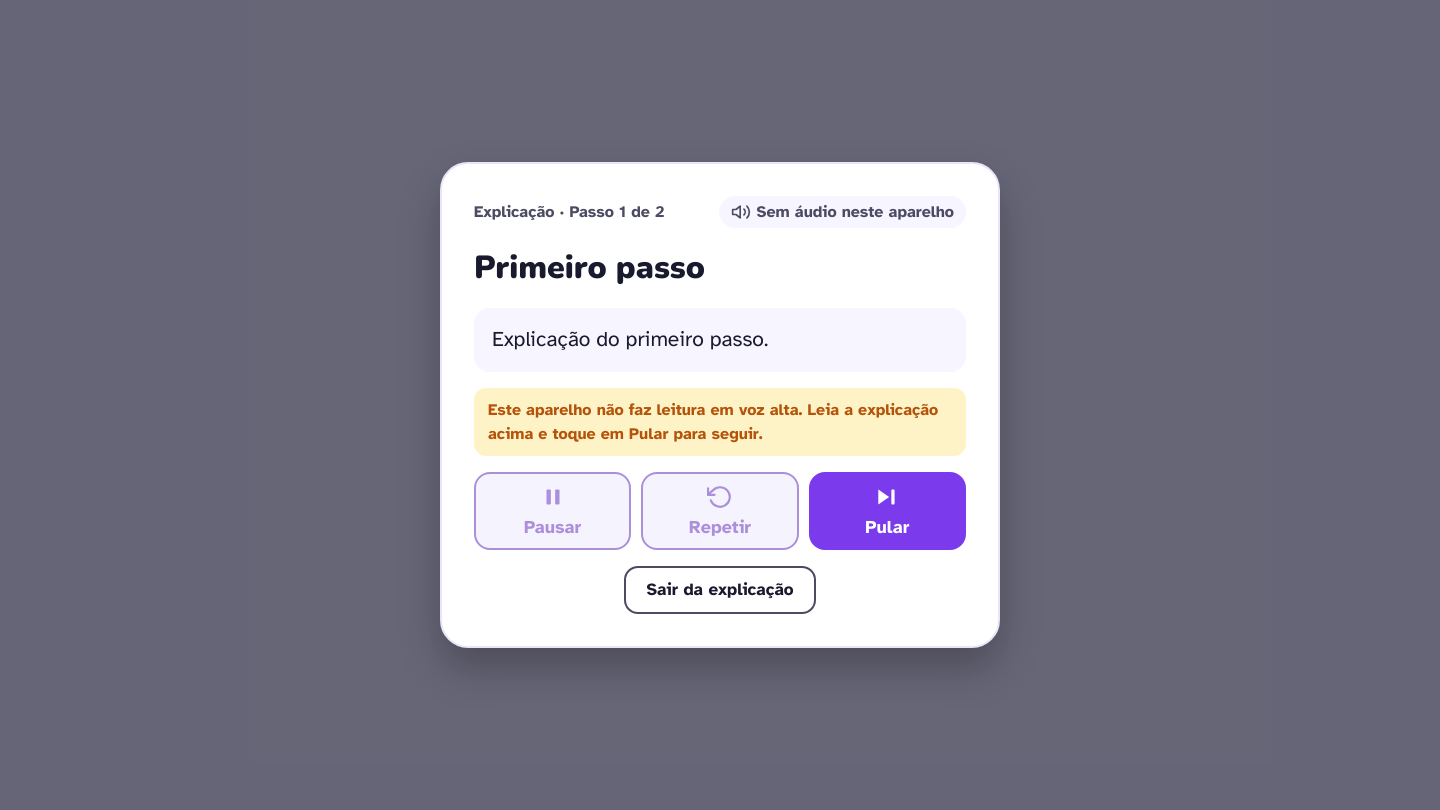
Componente TourAudio (US13) › sem leitura em voz alta, mostra só a legenda e deixa avançar
Expected: the text "não faz leitura em voz alta" is shown, [488, 400, 938, 444]
Expected: the text "Explicação do primeiro passo." is shown, [474, 308, 966, 372]
Click the button "Pular" at (887,511), box [809, 472, 966, 550]
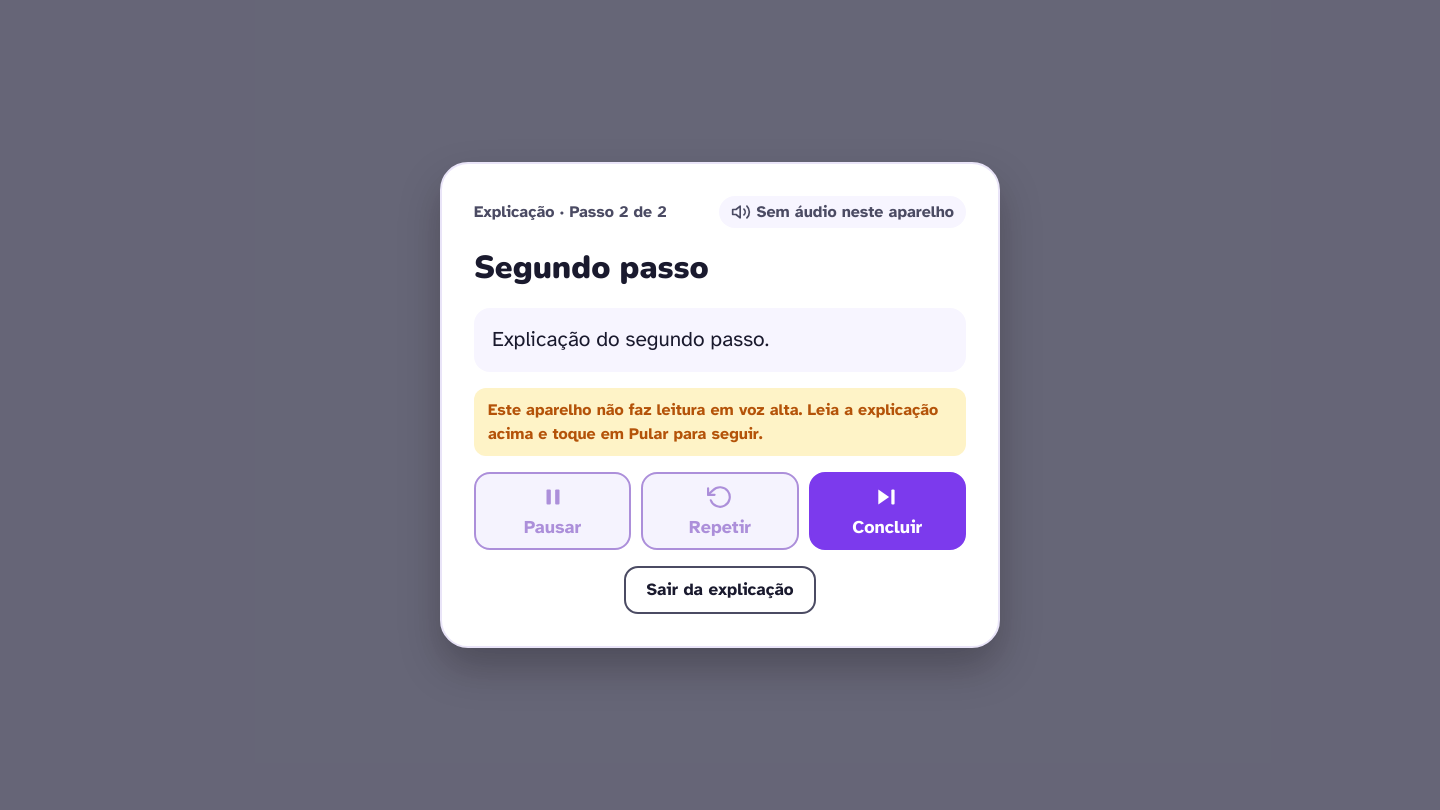
Expected: the text "Explicação do segundo passo." is shown, [474, 308, 966, 372]
